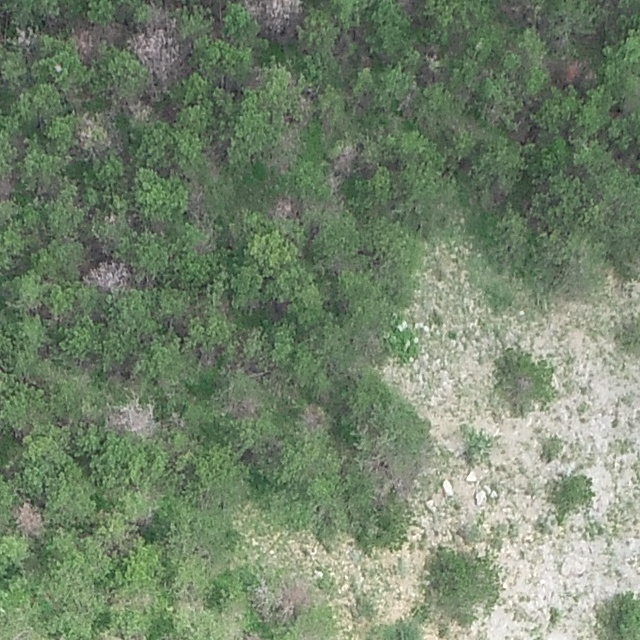unhealthy: (128, 23, 187, 84), (103, 389, 157, 434), (244, 0, 303, 40), (70, 111, 121, 157), (81, 259, 134, 293), (278, 578, 312, 620), (328, 141, 360, 178), (12, 500, 43, 538), (115, 93, 153, 123), (184, 177, 211, 219), (70, 22, 98, 61), (222, 394, 260, 420), (495, 0, 533, 24), (250, 583, 273, 620), (268, 195, 300, 221), (300, 403, 327, 431), (5, 25, 39, 46), (561, 58, 586, 86), (397, 86, 418, 117), (100, 20, 126, 44), (419, 50, 442, 72), (362, 454, 390, 472), (0, 170, 16, 201)
